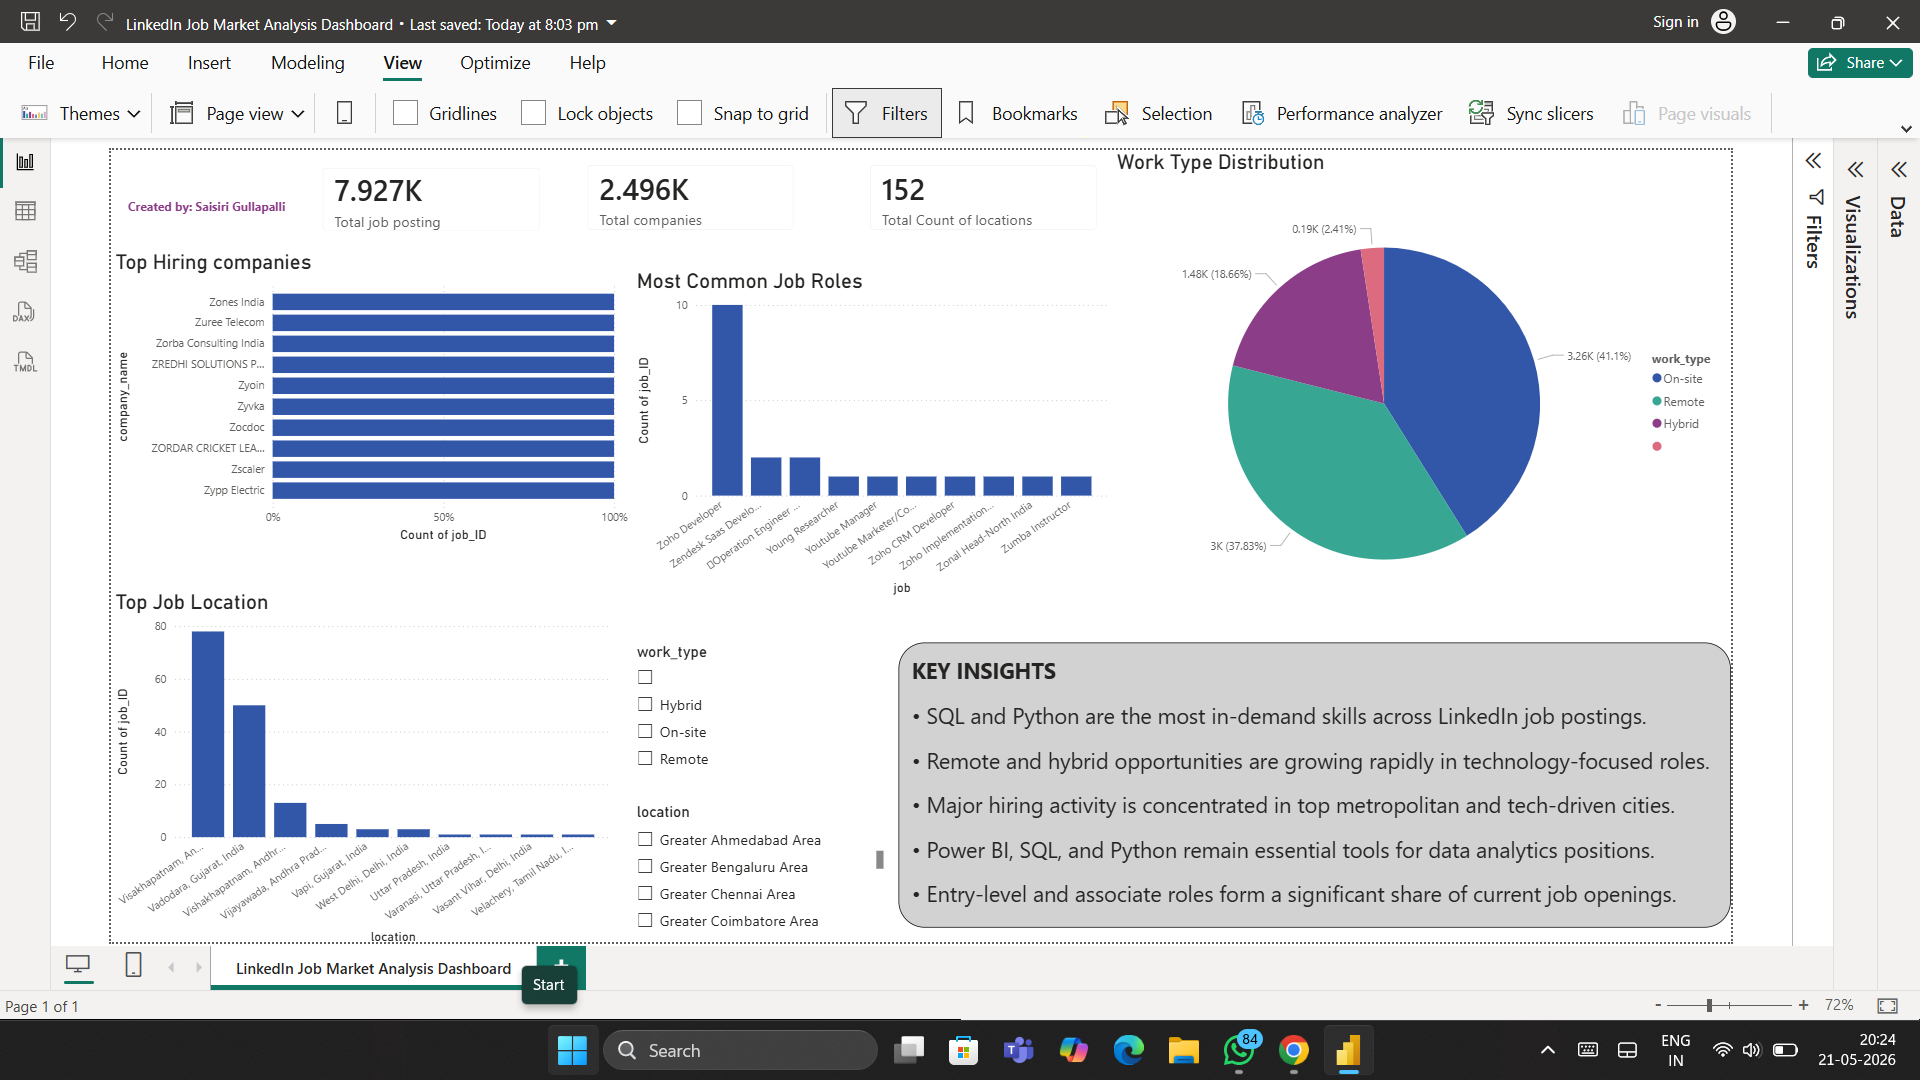

Layout of this report page (visuals, bound fields, positions):
{"tool":"powerbi","page":{"name":"Page 1","canvas":[1280,720],"ordinal":0},"visuals":[{"type":"clusteredColumnChart","title":"Top Hiring companies","fields":{"Category":["cleaned_linkedin_jobs.company_name"],"Y":["CountNonNull(cleaned_linkedin_jobs.job_ID)"]},"box":[83,129,475,273],"z":0},{"type":"clusteredColumnChart","title":"Top Job Location","fields":{"Category":["cleaned_linkedin_jobs.location"],"Y":["CountNonNull(cleaned_linkedin_jobs.job_ID)"]},"box":[121,447,476,273],"z":1000},{"type":"pieChart","title":"Work Type Distribution","fields":{"Category":["cleaned_linkedin_jobs.work_type"],"Y":["CountNonNull(cleaned_linkedin_jobs.job_ID)"]},"box":[658,152,622,296],"z":2000},{"type":"clusteredColumnChart","title":"Most Common Job Roles","fields":{"Category":["cleaned_linkedin_jobs.job"],"Y":["CountNonNull(cleaned_linkedin_jobs.job_ID)"]},"box":[756,447,476,273],"z":3000},{"type":"cardVisual","fields":{"Data":["CountNonNull(cleaned_linkedin_jobs.job_ID)"]},"box":[60,0,204,111],"z":4000},{"type":"cardVisual","fields":{"Data":["Count(cleaned_linkedin_jobs.company_name)"]},"box":[295,0,190,116],"z":5000},{"type":"cardVisual","fields":{"Data":["Count(cleaned_linkedin_jobs.location)"]},"box":[519,7,190,109],"z":6000},{"type":"listSlicer","fields":{"Values":["cleaned_linkedin_jobs.location"]},"box":[756,4,172,116],"z":7000},{"type":"listSlicer","fields":{"Values":["cleaned_linkedin_jobs.work_type"]},"box":[990,0,290,112],"z":8000},{"type":"textbox","box":[598,694,198,26],"z":9000}]}

Visuals, with their boxes on the page's 1280x720 design canvas (x1, y1, x2, y2). These are canvas units, not pixel positions in the 1920x1080 screenshot, which may show the page scaled, cropped or inside an application window:
"Top Hiring companies" clusteredColumnChart: Rect(83, 129, 558, 402)
"Top Job Location" clusteredColumnChart: Rect(121, 447, 597, 720)
"Work Type Distribution" pieChart: Rect(658, 152, 1280, 448)
"Most Common Job Roles" clusteredColumnChart: Rect(756, 447, 1232, 720)
cardVisual - CountNonNull(cleaned_linkedin_jobs.job_ID): Rect(60, 0, 264, 111)
cardVisual - Count(cleaned_linkedin_jobs.company_name): Rect(295, 0, 485, 116)
cardVisual - Count(cleaned_linkedin_jobs.location): Rect(519, 7, 709, 116)
listSlicer - cleaned_linkedin_jobs.location: Rect(756, 4, 928, 120)
listSlicer - cleaned_linkedin_jobs.work_type: Rect(990, 0, 1280, 112)
textbox: Rect(598, 694, 796, 720)
